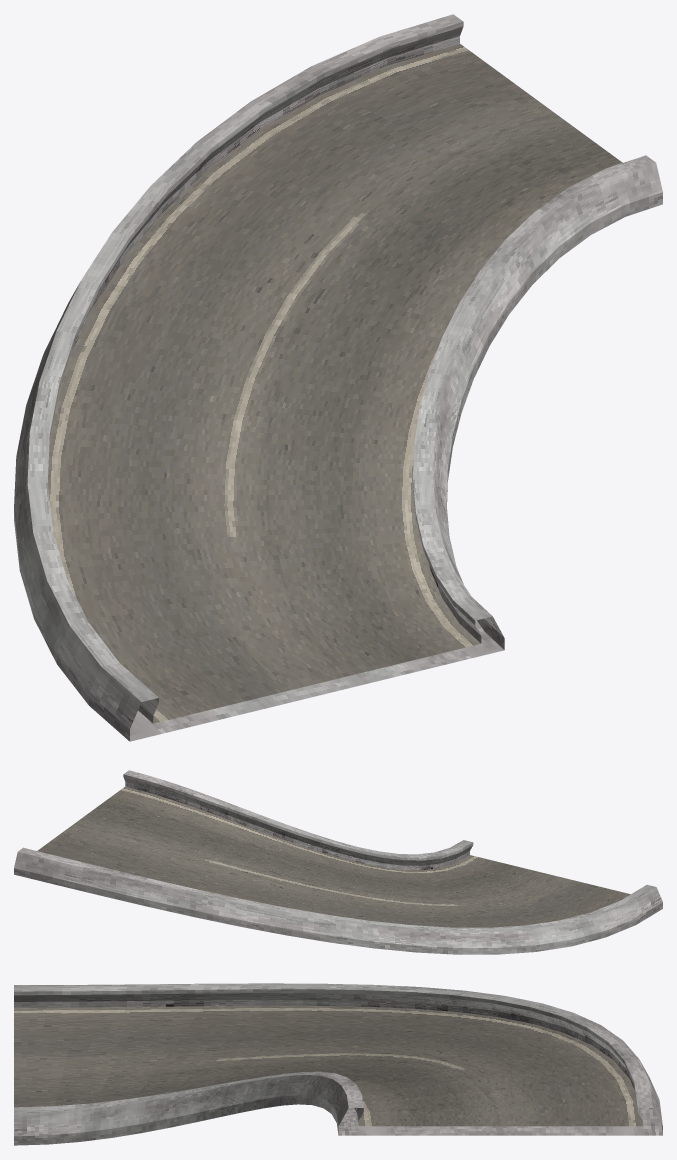
File: road-Turn-Flat-Flat-Up2-Right-Size2.glb
The picture shows the model from 3 angles, top to bottom: view 1: azimuth 30°, elevation 25°; view 2: azimuth 150°, elevation 25°; view 3: azimuth 270°, elevation 25°; orthographic projection. The views are drawn at different scales.
Visible parts, largest first — view 1: road-Turn-Flat-Flat-Up2-Right-Size2; view 2: road-Turn-Flat-Flat-Up2-Right-Size2; view 3: road-Turn-Flat-Flat-Up2-Right-Size2.
Boxes of the visible parts, x1,y1,x2,y2 form: road-Turn-Flat-Flat-Up2-Right-Size2: [14, 14, 662, 741]; road-Turn-Flat-Flat-Up2-Right-Size2: [14, 770, 662, 954]; road-Turn-Flat-Flat-Up2-Right-Size2: [14, 983, 662, 1145].
Size of the model in its own units: 2 by 0.5938 by 2.
2 materials, 2 textured.
